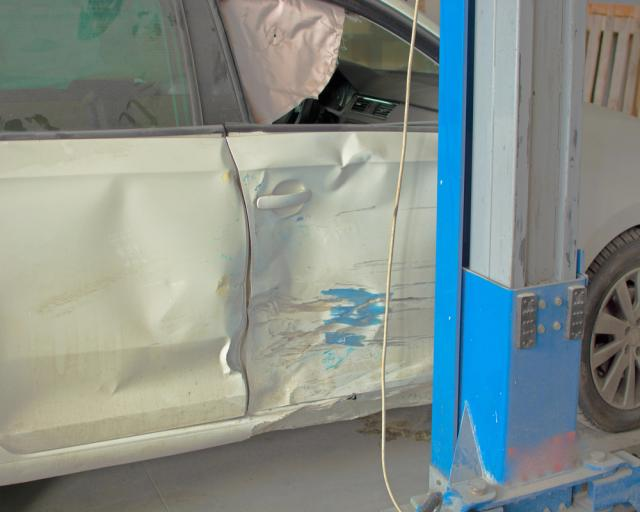dent: (238, 133, 384, 407), (77, 176, 200, 338), (219, 144, 251, 382)
scratch: (386, 259, 437, 352)
